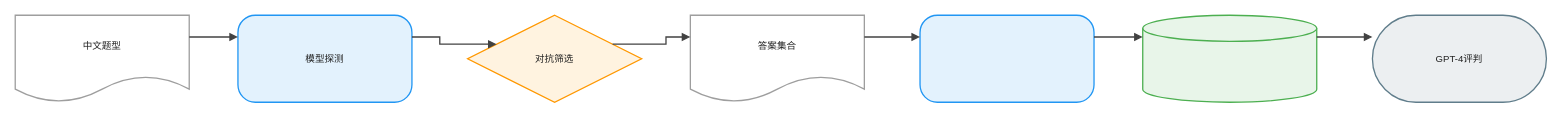
Some shapes in this 1563 by 118 pixel diagram are drawn without their labels. Each missing label, with the box of its shape:
450问题: (1142, 14, 1317, 102)
专家质检: (919, 14, 1094, 102)
